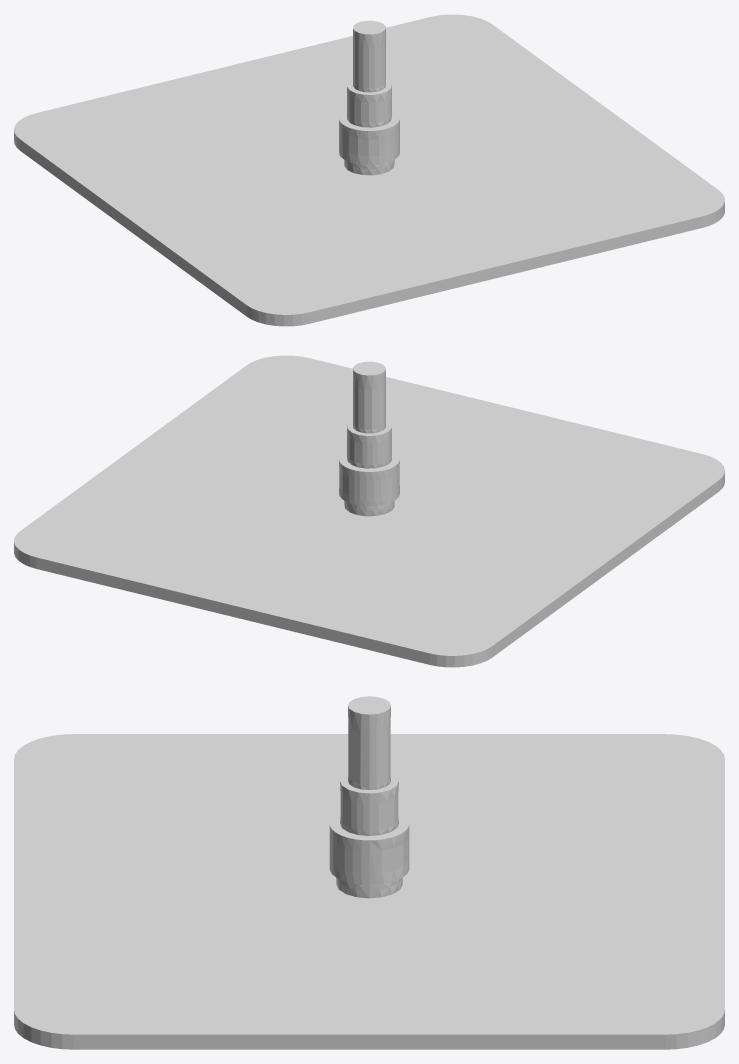
The model's file is AEC_49620.glb.
3 views of the same model, one above another, from view 1: azimuth 30°, elevation 25°; view 2: azimuth 150°, elevation 25°; view 3: azimuth 270°, elevation 25° (orthographic). The views are drawn at different scales.
Parts seen in each view (by area): view 1: 0; view 2: 0; view 3: 0.
Boxes of the visible parts, x1=… form: 0: x1=14, y1=14, x2=724, y2=326; 0: x1=14, y1=355, x2=724, y2=667; 0: x1=14, y1=696, x2=724, y2=1049.
Size of the model in its own units: 0.3 by 0.0931 by 0.3.
1 material, 1 textured.
